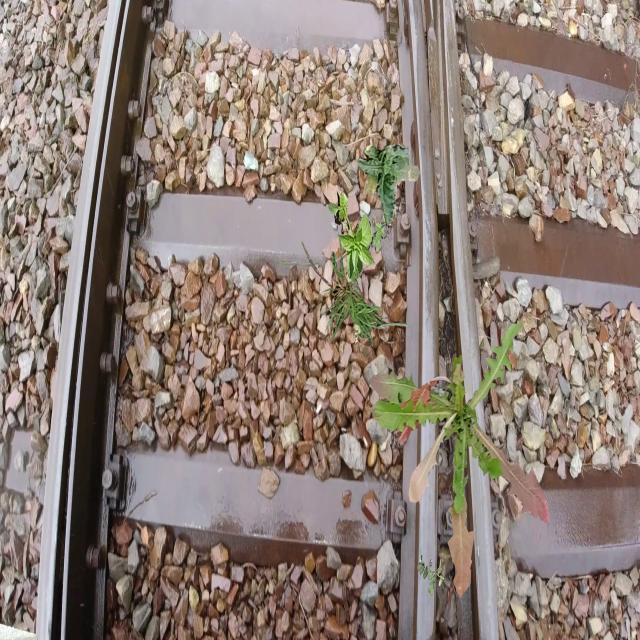Plant: (370, 321, 550, 599), (278, 230, 422, 350), (344, 207, 392, 345), (357, 144, 420, 227), (328, 189, 376, 284), (417, 555, 444, 596)
